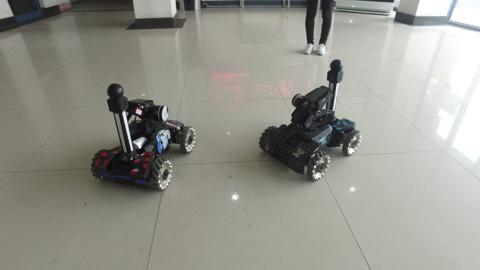chariot: (257, 58, 365, 183), (87, 81, 199, 198)
